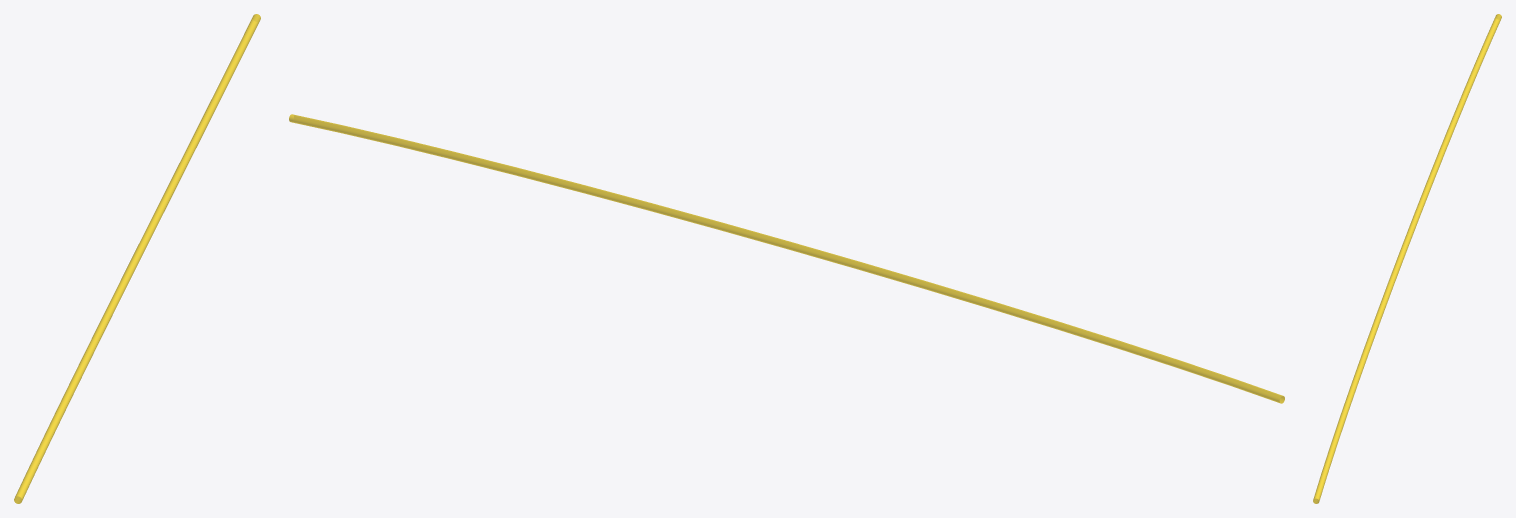
File: Event_100608114_track_44.fbx
3 views of the same model, side by side, from view 1: azimuth 90°, elevation 25°; view 2: azimuth 150°, elevation 25°; view 3: azimuth 270°, elevation 25° (orthographic). The views are drawn at different scales.
Visible parts, largest first — view 1: Model; view 2: Model; view 3: Model.
Part boxes in pixels (left/top/right/bottom): Model: left=14, top=14, right=260, bottom=503; Model: left=289, top=114, right=1284, bottom=403; Model: left=1313, top=14, right=1501, bottom=503.
Size of the model in its own units: 6.33 by 0.4384 by 1.18.
